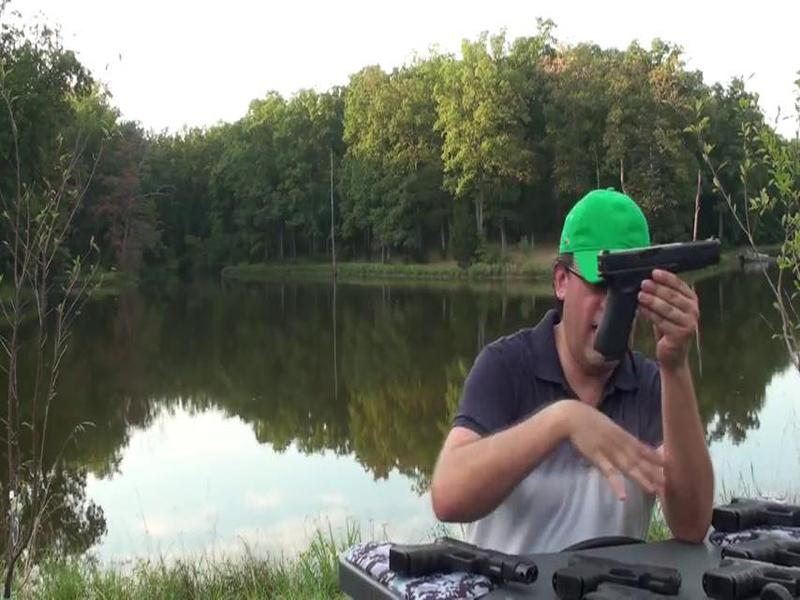Pistola: (587, 230, 724, 369), (384, 526, 536, 584), (548, 543, 687, 600)
